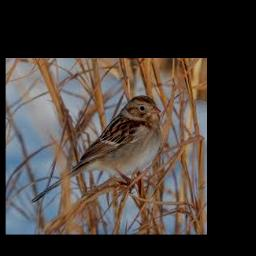Sparrow: (32, 95, 161, 204)
